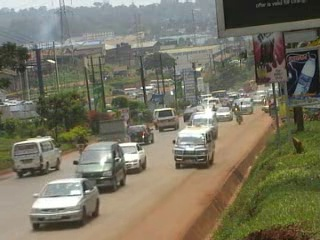Car: (27, 176, 100, 229), (71, 139, 128, 193), (115, 140, 148, 174), (125, 124, 156, 146), (181, 104, 201, 123), (214, 105, 234, 121)
Motorcycle: (74, 130, 90, 158), (232, 101, 244, 125)
